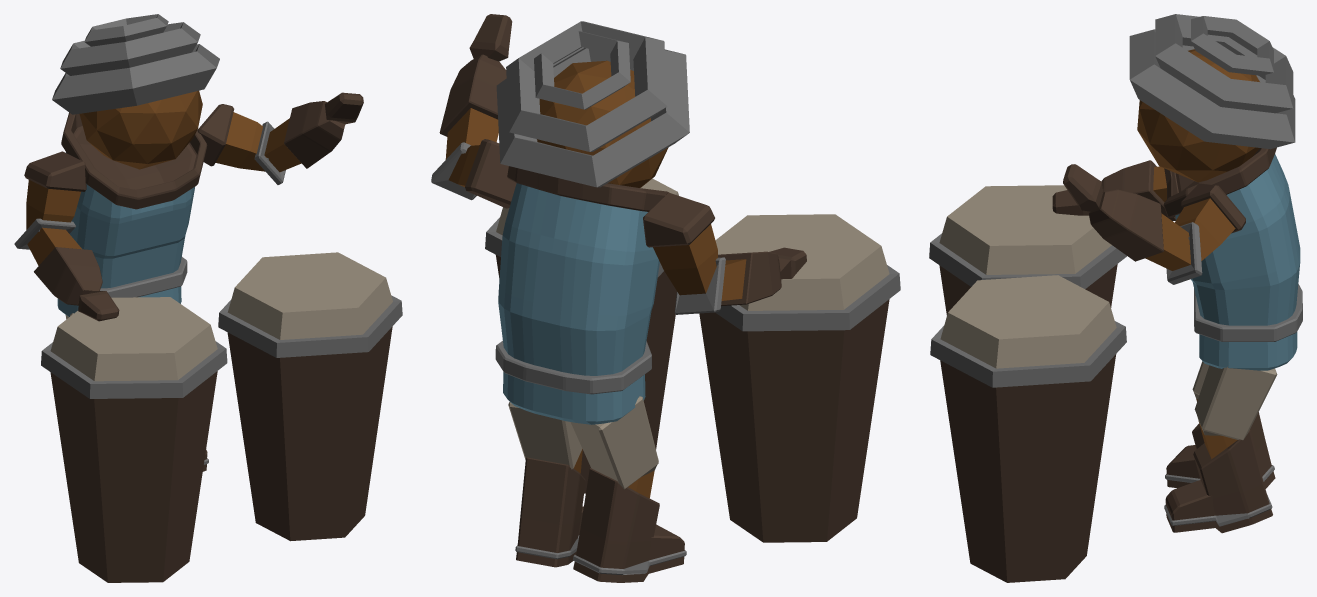
Rendered from DrummingMPIEChar.fbx.
The picture shows the model from 3 angles, left to right: view 1: azimuth 30°, elevation 25°; view 2: azimuth 150°, elevation 25°; view 3: azimuth 270°, elevation 25°; orthographic projection. The views are drawn at different scales.
Visible parts, largest first — view 1: Character.001; view 2: Character.001; view 3: Character.001.
Part boxes in pixels (x1,y1,x2,y2): Character.001: [14, 14, 402, 582]; Character.001: [431, 14, 900, 582]; Character.001: [929, 14, 1302, 582].
Size of the model in its own units: 158 by 215 by 149.
